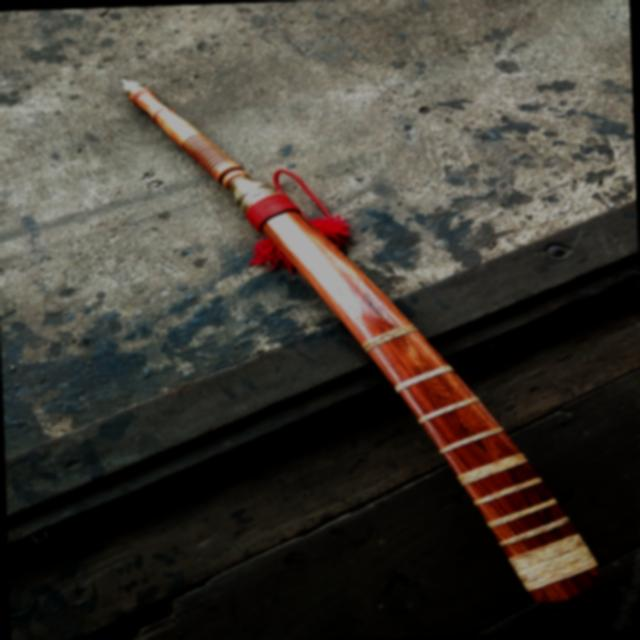long sword: (150, 64, 598, 614)
